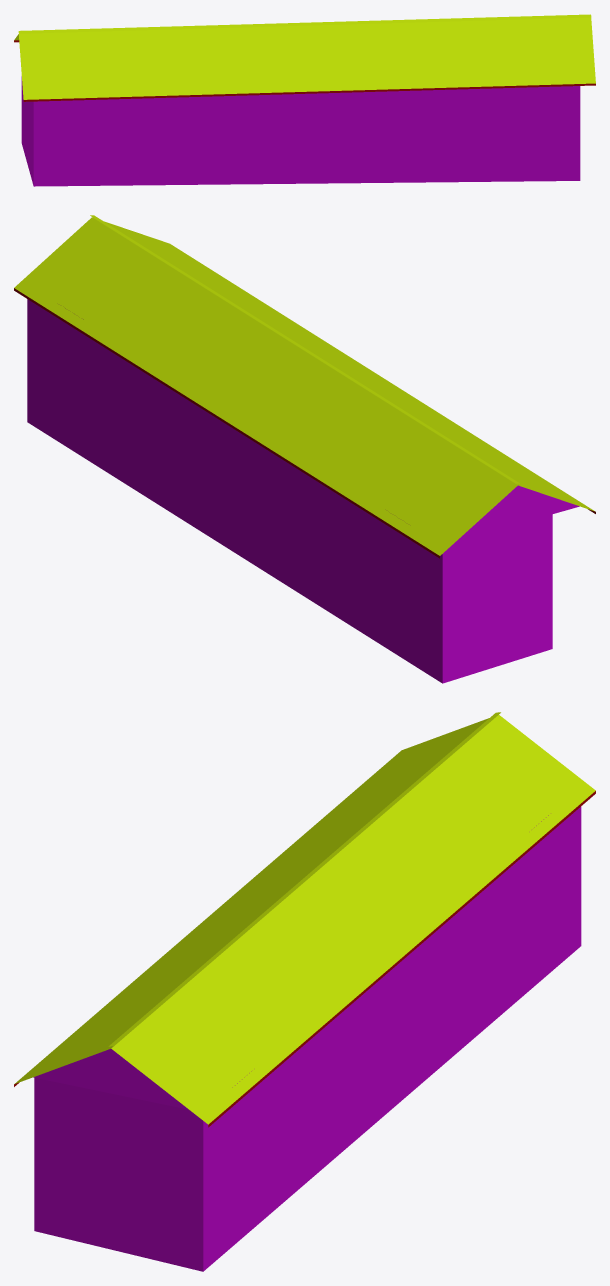
The model's file is sal_5.glb.
The picture shows the model from 3 angles, top to bottom: view 1: azimuth 30°, elevation 25°; view 2: azimuth 150°, elevation 25°; view 3: azimuth 270°, elevation 25°; orthographic projection. The views are drawn at different scales.
Parts seen in each view (by area): view 1: sal_5; view 2: sal_5; view 3: sal_5.
Boxes of the visible parts, x1=… form: sal_5: x1=14, y1=14, x2=595, y2=186; sal_5: x1=14, y1=215, x2=595, y2=683; sal_5: x1=14, y1=712, x2=595, y2=1271.
Bounding box in the file's own units: 31.98 × 8.46 × 21.01.
